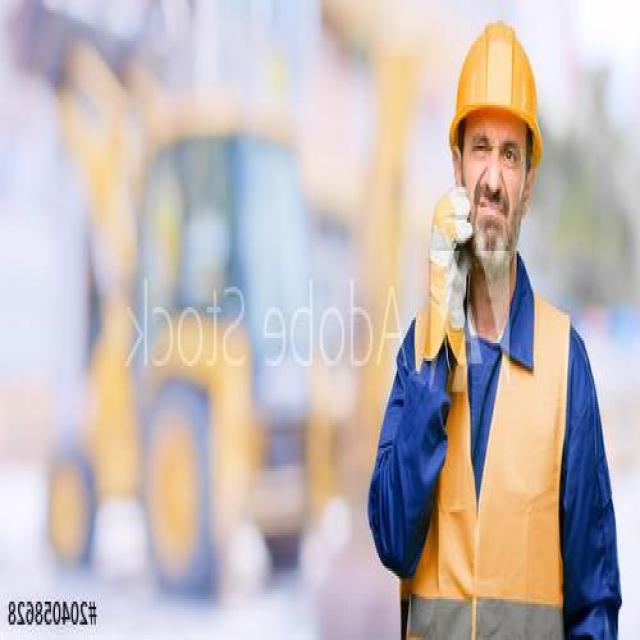reflective_jacket: (390, 286, 582, 639)
safety_helmet: (446, 15, 546, 158)
